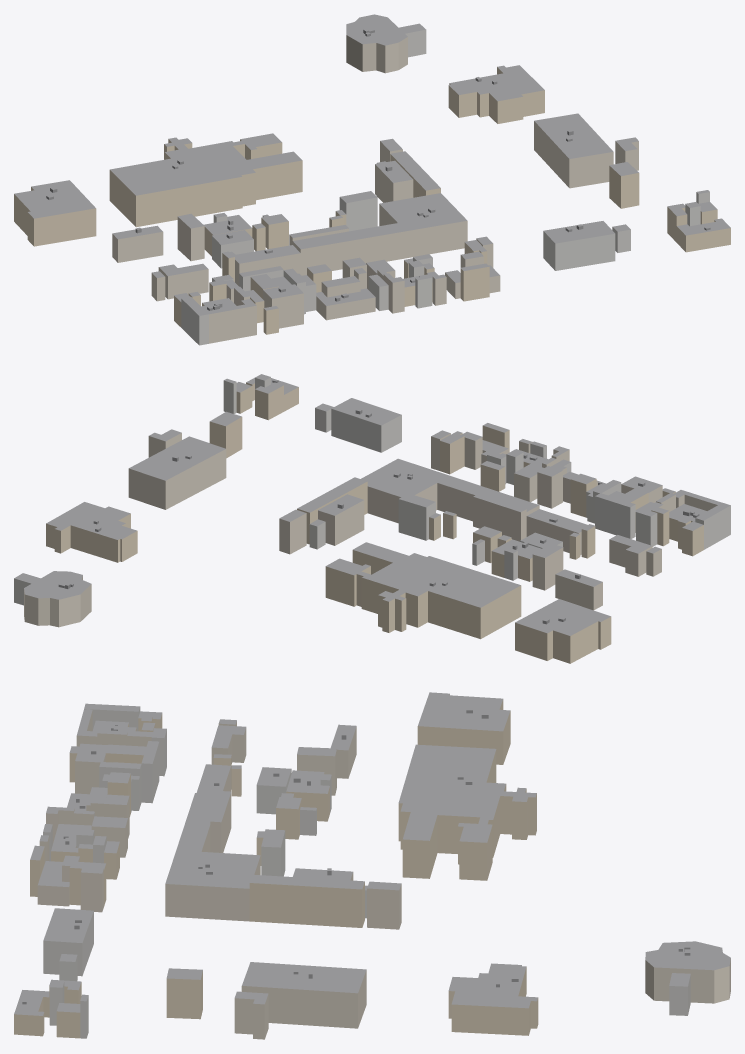
File: building_2_-3.glb
3 views of the same model, one above another, from view 1: azimuth 30°, elevation 25°; view 2: azimuth 150°, elevation 25°; view 3: azimuth 270°, elevation 25° (orthographic). The views are drawn at different scales.
Visible parts, largest first — view 1: roof, concrete_warm, sandstone, concrete_light; view 2: roof, sandstone, concrete_warm, concrete_light; view 3: roof, sandstone, concrete_warm, concrete_light.
Part boxes in pixels (box(x1,y1,x2,y2)): roof: box(14, 14, 730, 315); concrete_warm: box(112, 35, 638, 343); sandstone: box(14, 67, 730, 334); concrete_light: box(181, 29, 709, 345); roof: box(14, 374, 730, 635); sandstone: box(46, 382, 703, 663); concrete_warm: box(24, 433, 717, 627); concrete_light: box(14, 377, 730, 605); roof: box(14, 692, 730, 1015); sandstone: box(14, 694, 538, 1038); concrete_warm: box(37, 711, 730, 1039); concrete_light: box(43, 706, 690, 1038).
Size of the model in its own units: 259 by 15.78 by 251.
